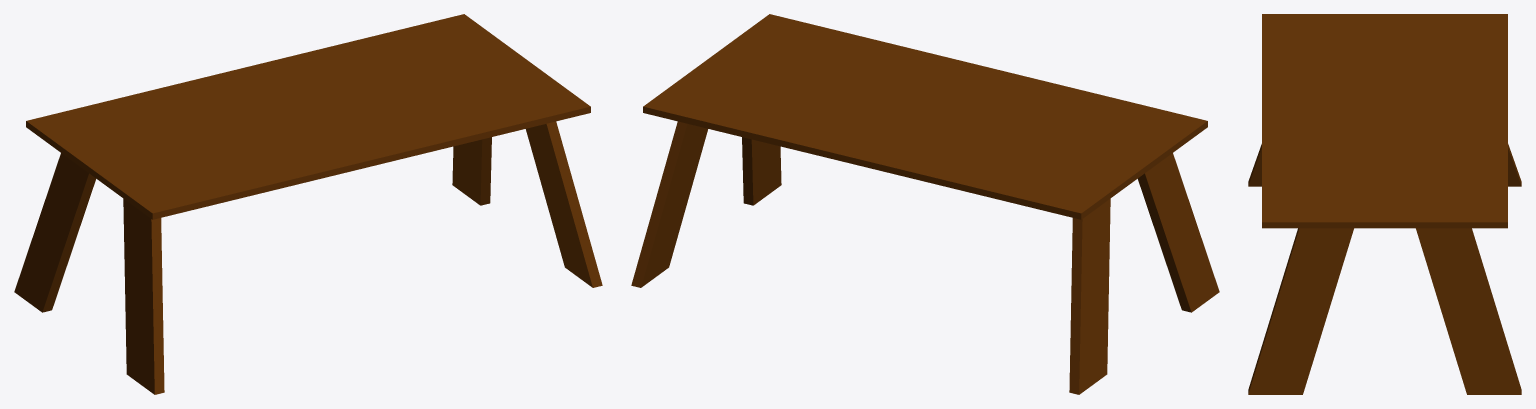
Rendered from map.glb.
3 renders of one model, left to right at view 1: azimuth 30°, elevation 25°; view 2: azimuth 150°, elevation 25°; view 3: azimuth 270°, elevation 25°, orthographic. The views are drawn at different scales.
Parts seen in each view (by area): view 1: Plane.001; view 2: Plane.001; view 3: Plane.001.
Boxes of the visible parts, x1,y1,x2,y2 form: Plane.001: (14,14,602,394); Plane.001: (631,14,1219,394); Plane.001: (1248,14,1521,394).
Size of what is drawn, in the model's own units: 1.84 by 0.6875 by 1.
